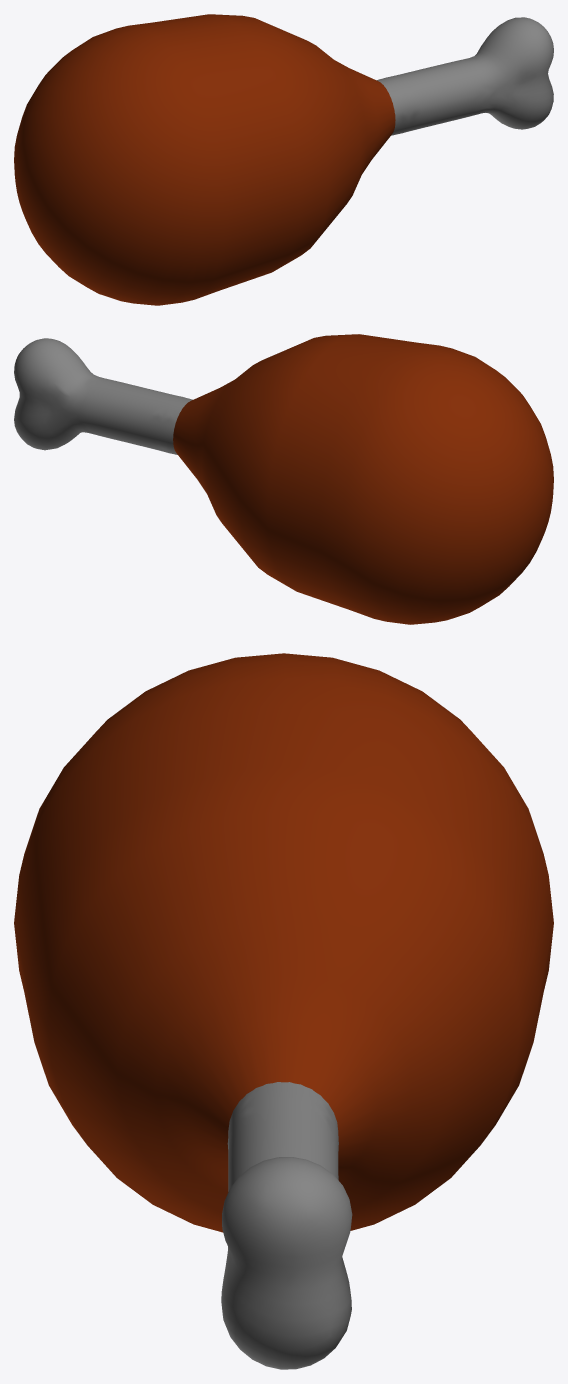
File: pollo.fbx
3 renders of one model, top to bottom at view 1: azimuth 30°, elevation 25°; view 2: azimuth 150°, elevation 25°; view 3: azimuth 270°, elevation 25°, orthographic. The views are drawn at different scales.
Visible parts, largest first — view 1: MusloPollo, HuesoPollo; view 2: MusloPollo, HuesoPollo; view 3: MusloPollo, HuesoPollo.
Part boxes in pixels (bbox=[...]): MusloPollo: bbox=[14, 14, 395, 305]; HuesoPollo: bbox=[376, 17, 553, 135]; MusloPollo: bbox=[173, 334, 553, 624]; HuesoPollo: bbox=[14, 338, 192, 454]; MusloPollo: bbox=[14, 653, 553, 1232]; HuesoPollo: bbox=[221, 1082, 352, 1369].
Size of the model in its own units: 6.48 by 3.07 by 3.07.
